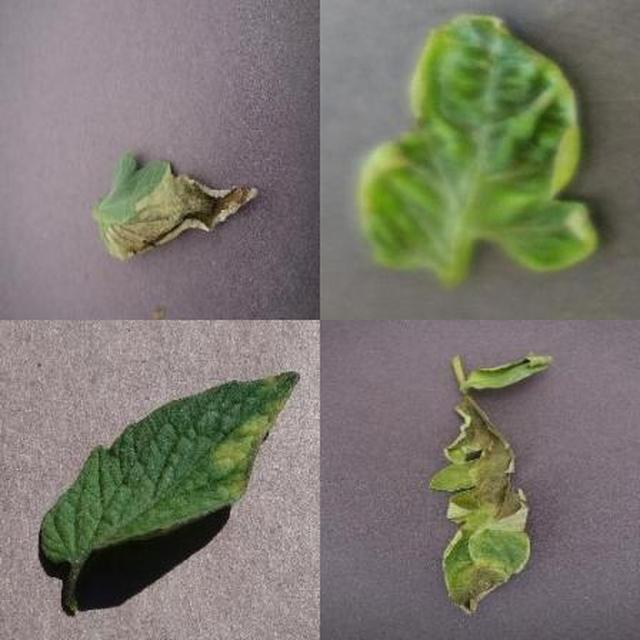Late Blight Leaf: (124, 54, 640, 640)
